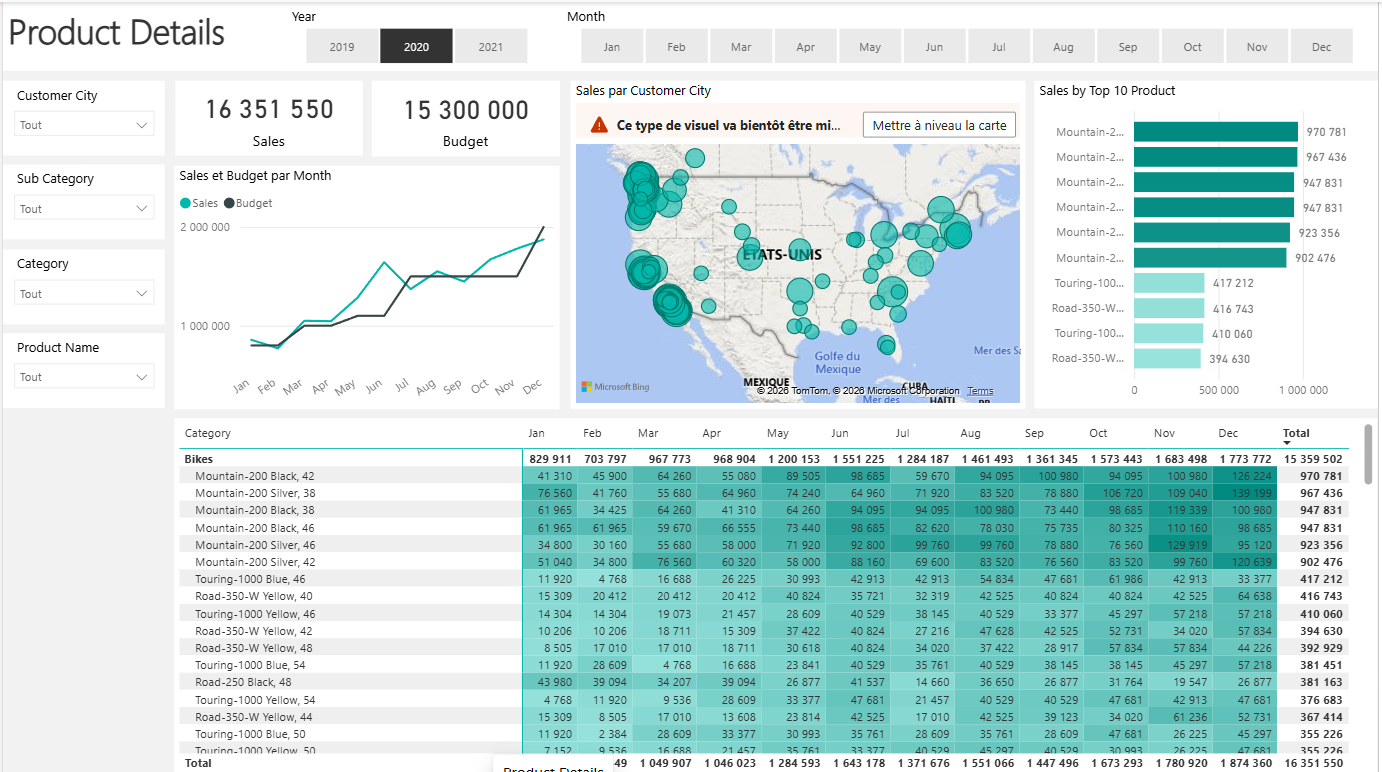

Layout of this report page (visuals, bound fields, positions):
{"tool":"powerbi","page":{"name":"Product Details","canvas":[1280,720],"ordinal":2},"visuals":[{"type":"textbox","box":[0,0,1280,64],"z":0},{"type":"slicer","fields":{"Values":["DIM_Calendar.Year"]},"box":[256,0,256,64],"z":1000},{"type":"slicer","fields":{"Values":["DIM_Calendar.MonthShort"]},"box":[512,0,768,64],"z":2000},{"type":"slicer","fields":{"Values":["DIM_Customers.Customer City"]},"box":[0,73,150.5,69.3],"z":3000},{"type":"slicer","fields":{"Values":["DIM_Products.Product Category"]},"box":[0,229.9,150.5,69.3],"z":4000},{"type":"slicer","fields":{"Values":["DIM_Products.Product Name"]},"box":[0,308.4,150.5,69.3],"z":5000},{"type":"slicer","fields":{"Values":["DIM_Products.Sub Category"]},"box":[0,151.4,150.5,69.3],"z":6000},{"type":"lineChart","fields":{"Category":["DIM_Calendar.MonthShort"],"Y":["Analysis Metrics.Sales","Analysis Metrics.Budget"]},"box":[159.8,151.8,358.7,226.4],"z":7000},{"type":"card","fields":{"Values":["Analysis Metrics.Sales"]},"box":[160.7,72.8,174,69.2],"z":8000},{"type":"map","fields":{"Category":["DIM_Customers.Customer City"],"Size":["Analysis Metrics.Sales"]},"box":[527.3,72.8,423.5,304.5],"z":9000},{"type":"card","fields":{"Values":["Analysis Metrics.Budget"]},"box":[343.6,72.8,174.9,70.1],"z":10000},{"type":"pivotTable","fields":{"Columns":["DIM_Calendar.MonthShort"],"Rows":["DIM_Products.Product Category","DIM_Products.Product Name"],"Values":["Analysis Metrics.Sales"]},"box":[159.8,387.1,1120.4,332.9],"z":11000},{"type":"clusteredBarChart","title":"Sales by Top 10 Product","fields":{"Category":["DIM_Products.Product Name"],"Y":["Analysis Metrics.Sales"]},"box":[959.7,72.8,320.5,304.5],"z":12000}]}

Visuals, with their boxes in screenshot pixels (x1, y1, x2, y2), scaled from the page's 1280x720 canvas onto the 1382x772 screenshot:
textbox: Rect(0, 0, 1381, 69)
slicer - DIM_Calendar.Year: Rect(276, 0, 553, 69)
slicer - DIM_Calendar.MonthShort: Rect(553, 0, 1381, 69)
slicer - DIM_Customers.Customer City: Rect(0, 78, 162, 153)
slicer - DIM_Products.Product Category: Rect(0, 247, 162, 321)
slicer - DIM_Products.Product Name: Rect(0, 331, 162, 405)
slicer - DIM_Products.Sub Category: Rect(0, 162, 162, 237)
lineChart - DIM_Calendar.MonthShort x Analysis Metrics.Sales: Rect(173, 163, 560, 406)
card - Analysis Metrics.Sales: Rect(174, 78, 361, 152)
map - DIM_Customers.Customer City x Analysis Metrics.Sales: Rect(569, 78, 1027, 405)
card - Analysis Metrics.Budget: Rect(371, 78, 560, 153)
pivotTable - DIM_Calendar.MonthShort x DIM_Products.Product Category: Rect(173, 415, 1381, 771)
"Sales by Top 10 Product" clusteredBarChart: Rect(1036, 78, 1381, 405)
